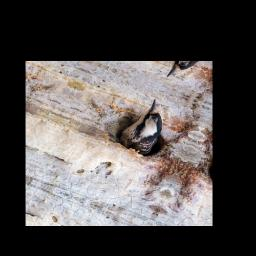Woodpecker: (114, 94, 178, 157)
